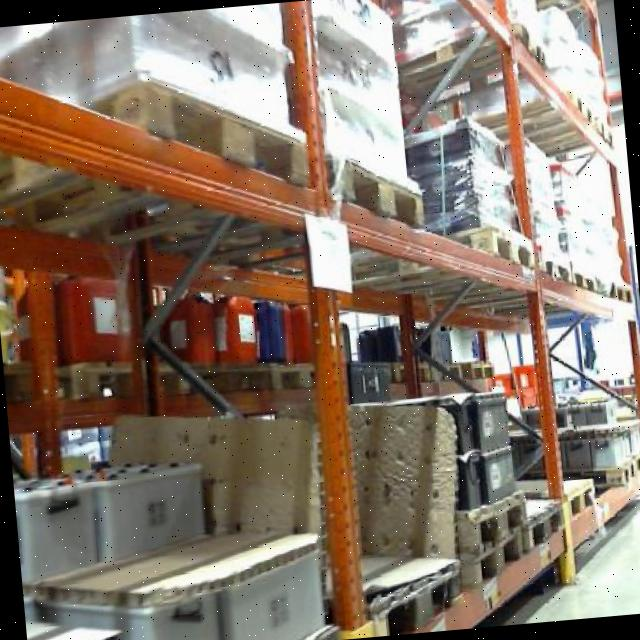pallet: (92, 66, 308, 202), (451, 514, 546, 602), (329, 154, 429, 233), (448, 485, 532, 557), (450, 217, 534, 276), (520, 494, 572, 550), (601, 440, 640, 487), (562, 474, 602, 516), (534, 253, 582, 287), (568, 266, 610, 298), (606, 274, 639, 310)
